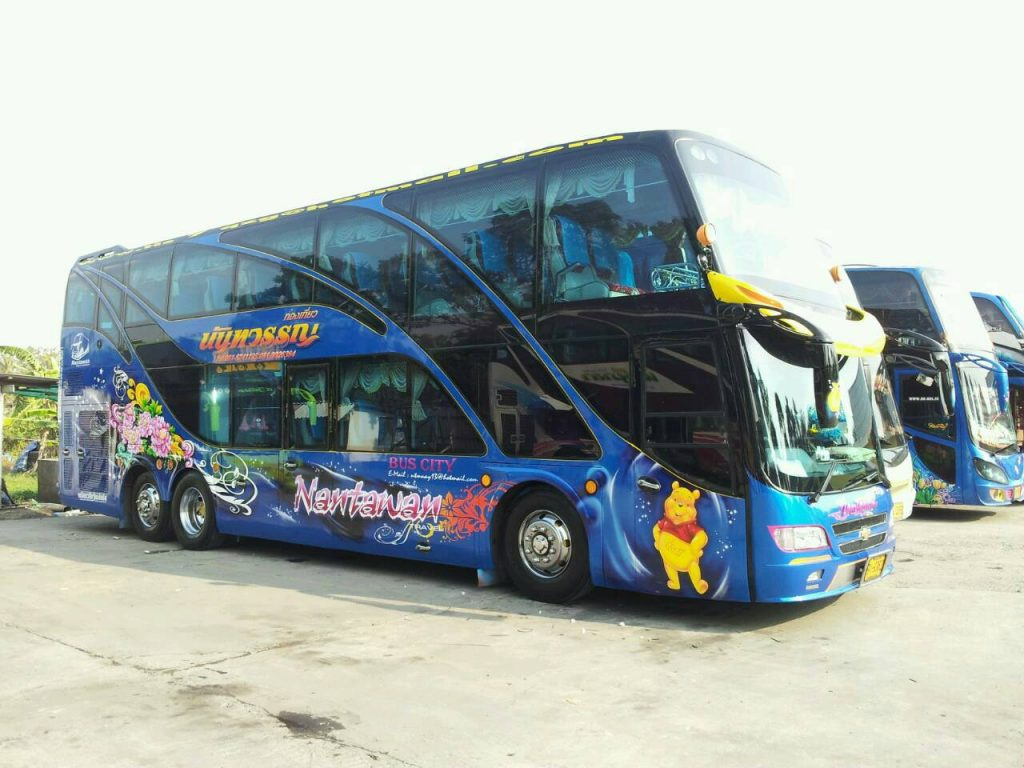bus: (56, 127, 900, 607)
